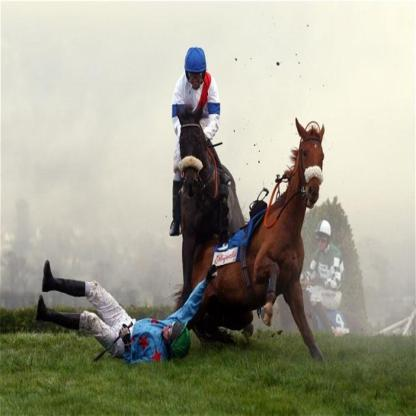face: (187, 68, 203, 89), (163, 322, 179, 340), (318, 235, 328, 250)
